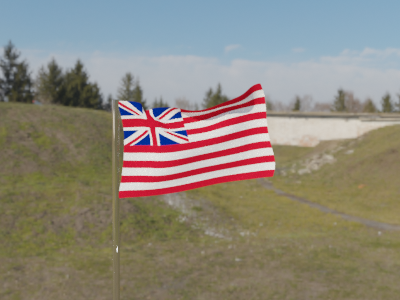Malaysia flag: (117, 81, 274, 204)
